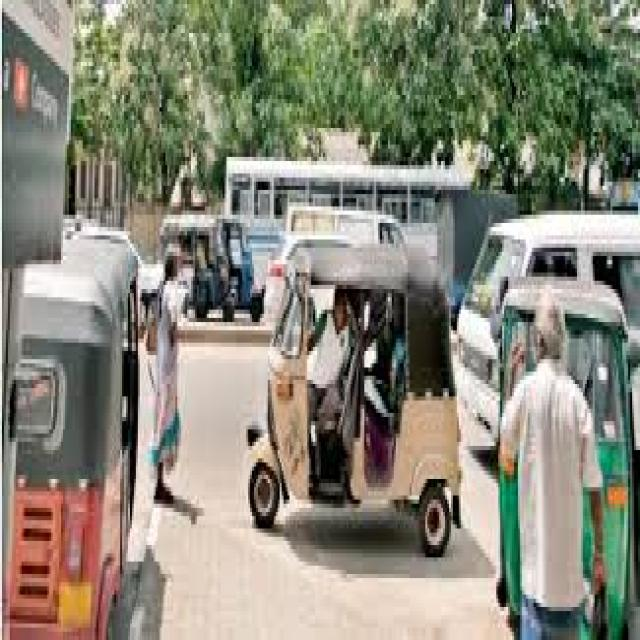bus: (224, 157, 467, 281)
person: (500, 293, 605, 640), (146, 252, 183, 504), (309, 293, 349, 434)
three wheeler: (250, 235, 459, 553), (10, 231, 136, 640), (500, 277, 628, 640), (161, 215, 232, 318), (223, 219, 260, 312)
van: (459, 211, 638, 438), (289, 211, 402, 244)
